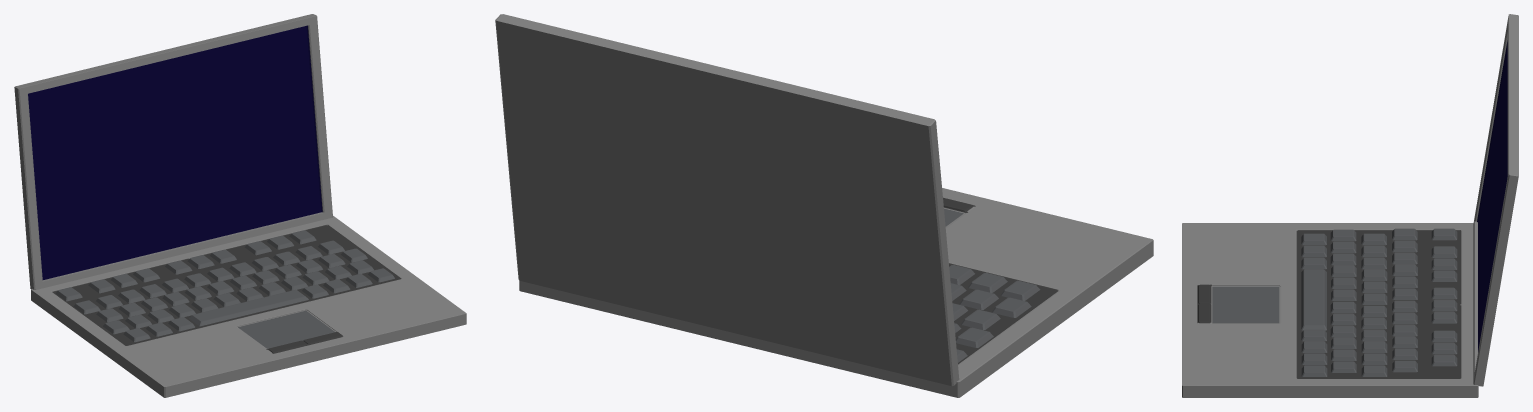
File: notebook.fbx
The picture shows the model from 3 angles, left to right: view 1: azimuth 30°, elevation 25°; view 2: azimuth 150°, elevation 25°; view 3: azimuth 270°, elevation 25°; orthographic projection. The views are drawn at different scales.
Visible parts, largest first — view 1: Cube; view 2: Cube; view 3: Cube.
Part boxes in pixels (bbox=[...]): Cube: bbox=[14, 14, 466, 397]; Cube: bbox=[495, 14, 1153, 397]; Cube: bbox=[1182, 14, 1518, 397].
Size of the model in its own units: 329 by 209 by 287.
